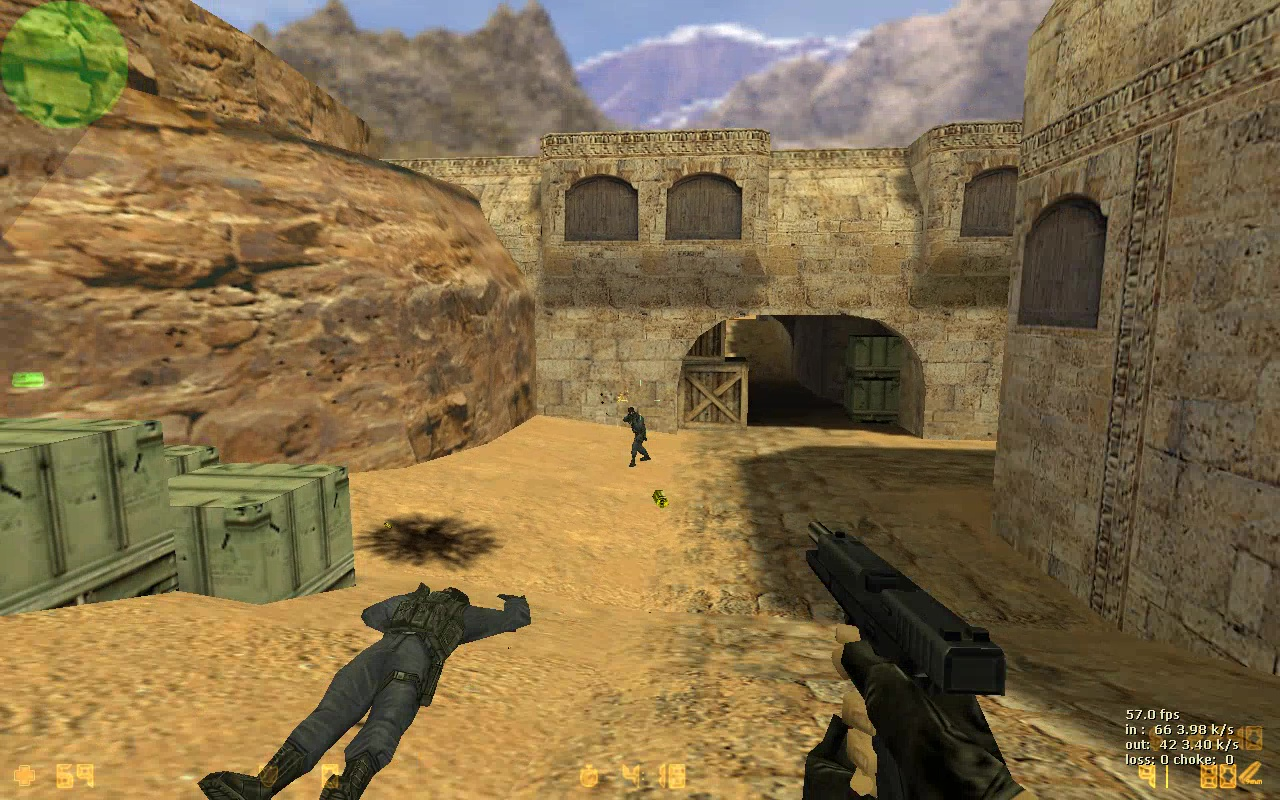ct: (617, 407, 651, 469)
dead: (198, 587, 539, 795)
